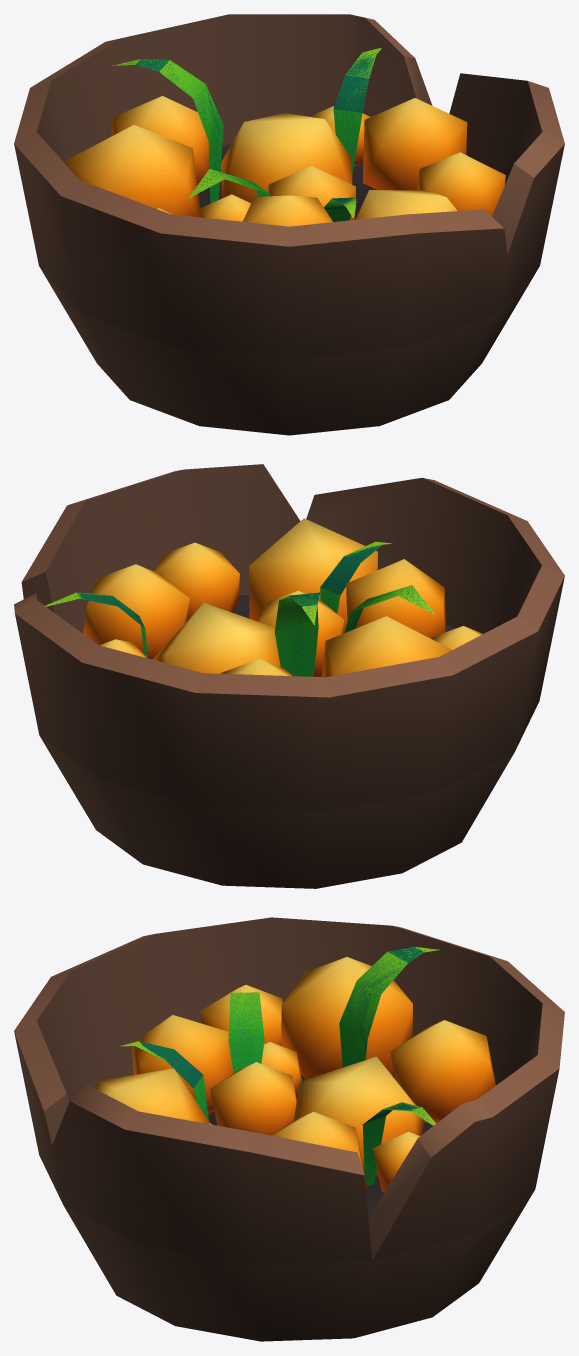
The model's file is Food_Bowl_2B.fbx.
3 views of the same model, one above another, from view 1: azimuth 30°, elevation 25°; view 2: azimuth 150°, elevation 25°; view 3: azimuth 270°, elevation 25° (orthographic).
Parts seen in each view (by area): view 1: Food_Bowl_2B, Food_Bowl_2B_Vegetables; view 2: Food_Bowl_2B, Food_Bowl_2B_Vegetables; view 3: Food_Bowl_2B, Food_Bowl_2B_Vegetables.
Boxes of the visible parts, x1,y1,x2,y2 form: Food_Bowl_2B: [14, 14, 564, 435]; Food_Bowl_2B_Vegetables: [65, 48, 505, 226]; Food_Bowl_2B: [14, 464, 564, 888]; Food_Bowl_2B_Vegetables: [45, 518, 482, 677]; Food_Bowl_2B: [14, 917, 564, 1341]; Food_Bowl_2B_Vegetables: [95, 946, 495, 1192].
Bounding box in the file's own units: 0.9092 × 0.4868 × 0.907.
